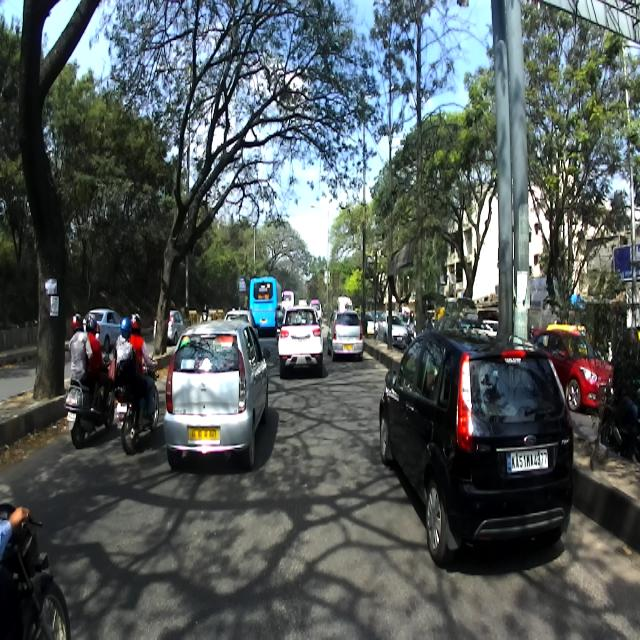car ahead at: (372, 321, 588, 574), (164, 315, 273, 473), (278, 299, 326, 376)
motorcycle ahead at: (106, 384, 159, 450), (62, 374, 102, 461)
